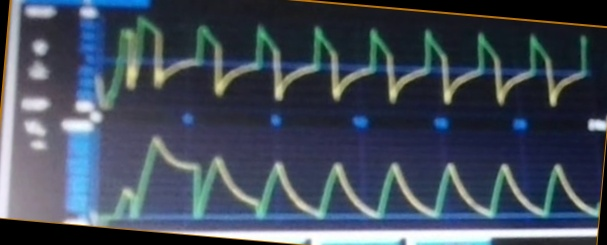Double_Triggering Flow: (94, 16, 559, 114)
Double_Triggering Volume: (97, 132, 560, 224)
